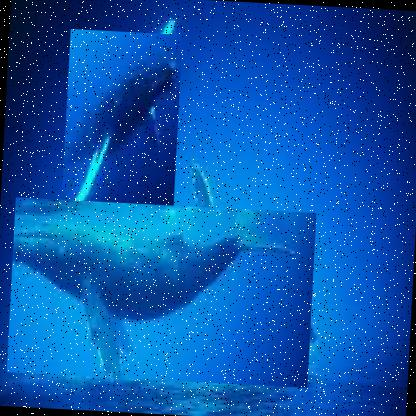sperm_whale: (5, 195, 316, 387), (60, 27, 182, 211)
